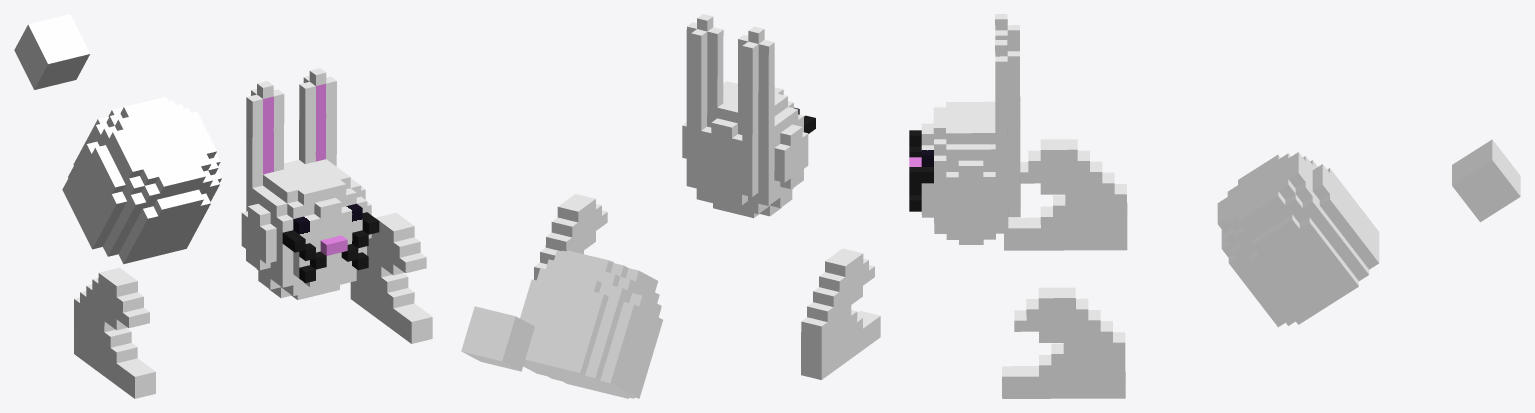
File: Bunny.obj
The picture shows the model from 3 angles, left to right: view 1: azimuth 30°, elevation 25°; view 2: azimuth 150°, elevation 25°; view 3: azimuth 270°, elevation 25°; orthographic projection. The views are drawn at different scales.
Parts seen in each view (by area): view 1: Model; view 2: Model; view 3: Model.
Boxes of the visible parts, bbox=[...] form: Model: bbox=[14, 14, 432, 398]; Model: bbox=[461, 14, 880, 398]; Model: bbox=[909, 14, 1520, 398].
Size of the model in its own units: 28.15 by 26.78 by 49.55.
1 material, 1 textured.
